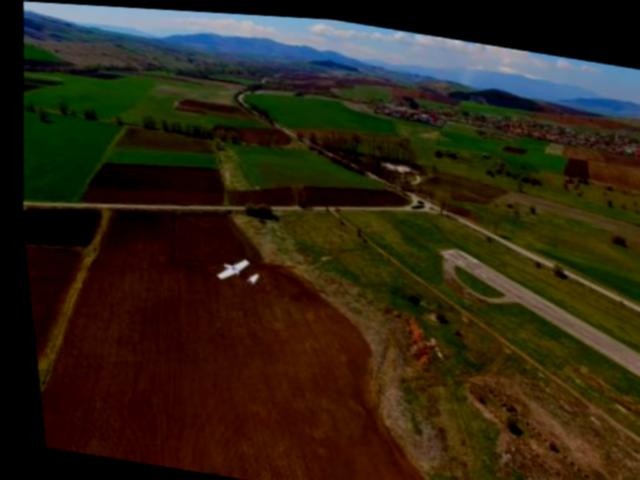uav: (204, 244, 263, 294)
